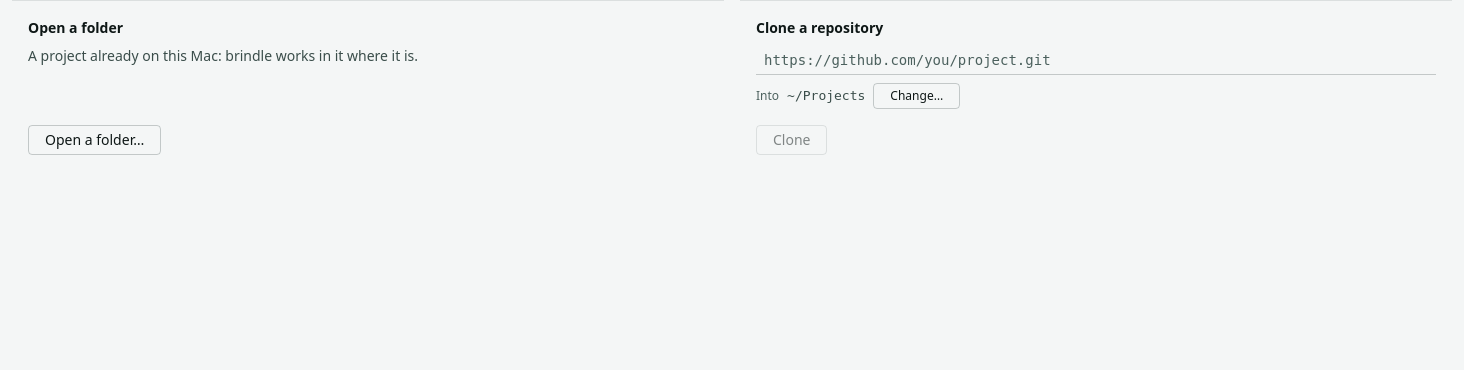
Test: ProjectPicker › onboarding's Pick a project clones a repository into ~/Projects, with git's lines in the progress card
Expected: the text with test id "clone-parent" reads "~/Projects", left=787, top=88, right=865, bottom=103
Type "https://github.com/sam/proj.git" into the field named "Repository URL". click: (1096, 60)
box: left=756, top=46, right=1436, bottom=75
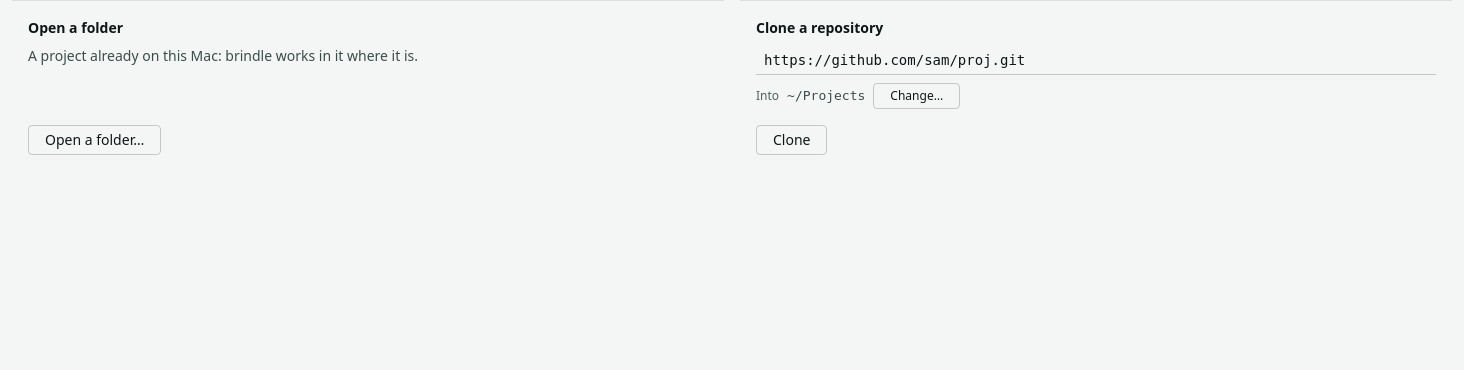
Click the button "Clone". click: (792, 140)
box: left=756, top=125, right=828, bottom=155
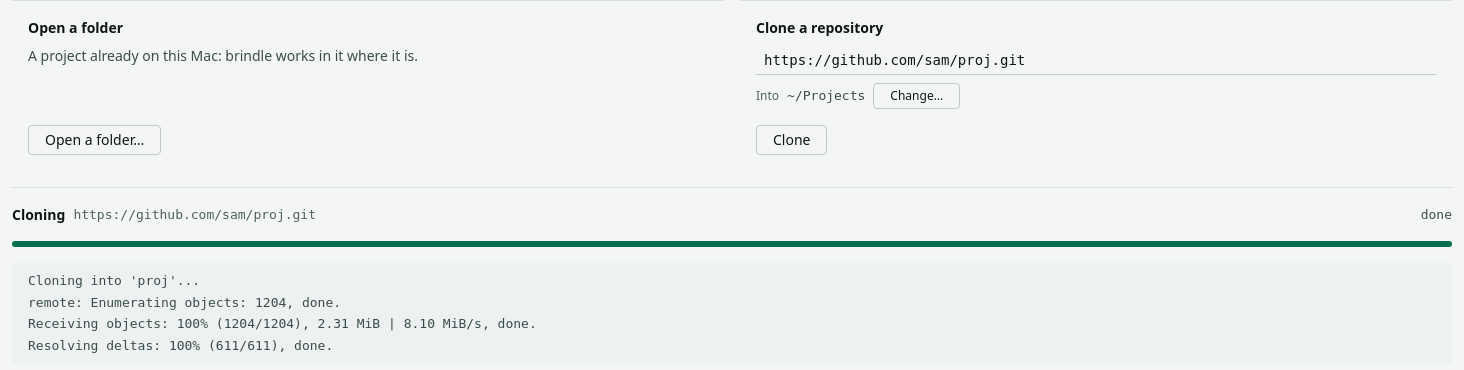
Expected: the list with test id "clone-lines" shows "Resolving deltas: 100% (611/611), done.", left=28, top=338, right=333, bottom=352
